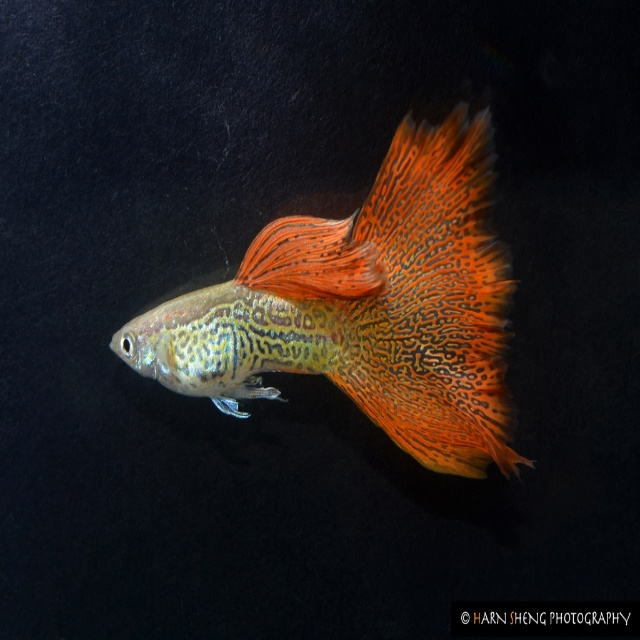Fish: (108, 103, 540, 479)
